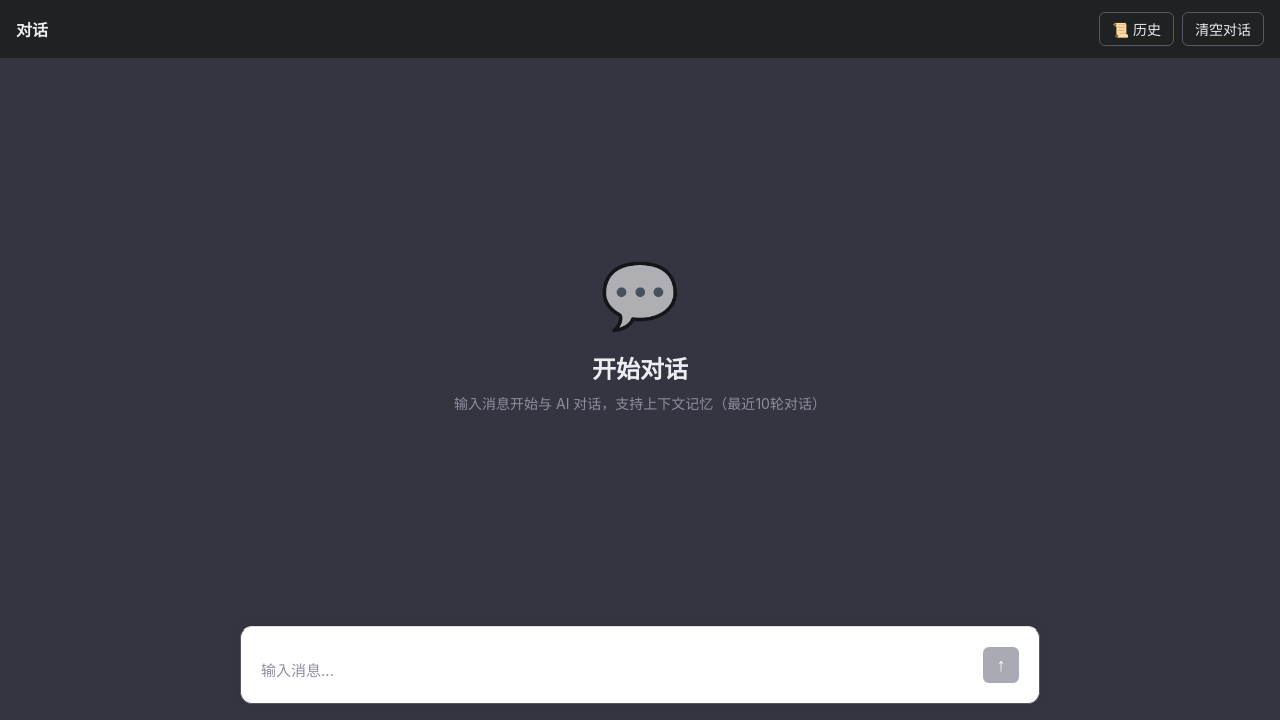
ChatInterface › API 失败时显示错误提示
Type "你好" into the text box at (616, 672), box [261,660,971,683]
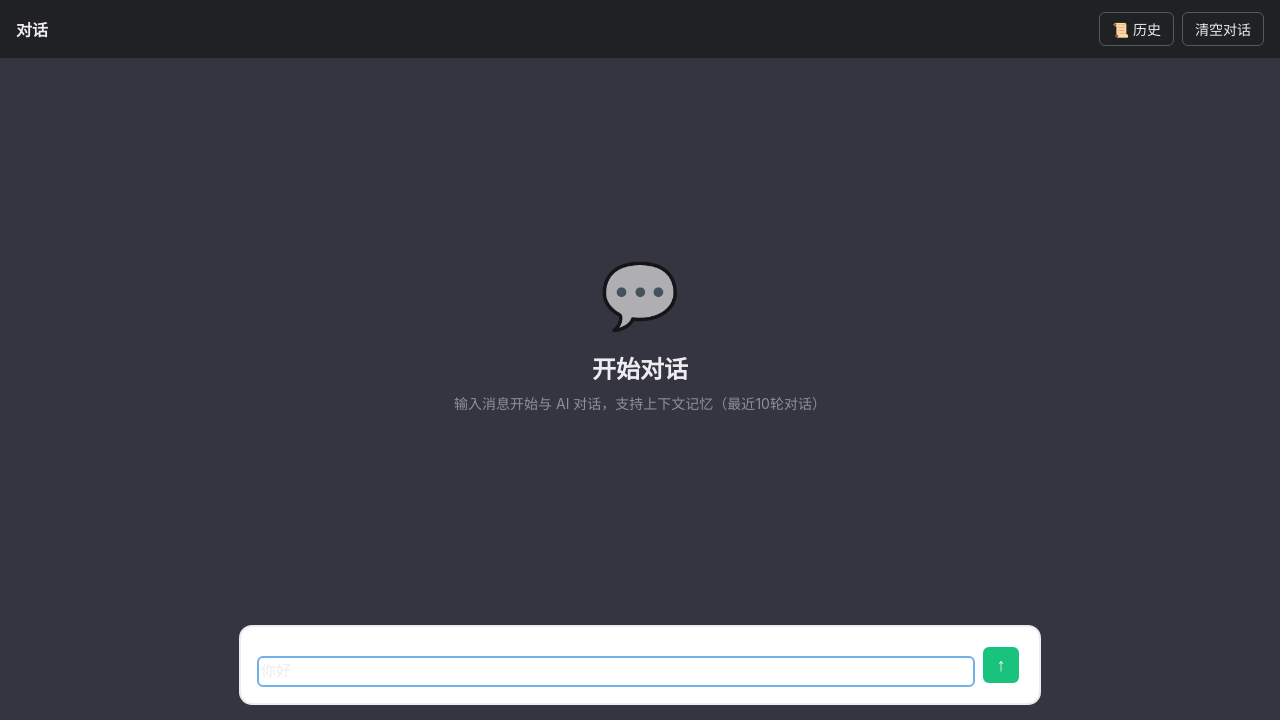
Click the button named "发送消息" at (1001, 665), box [983,647,1019,683]
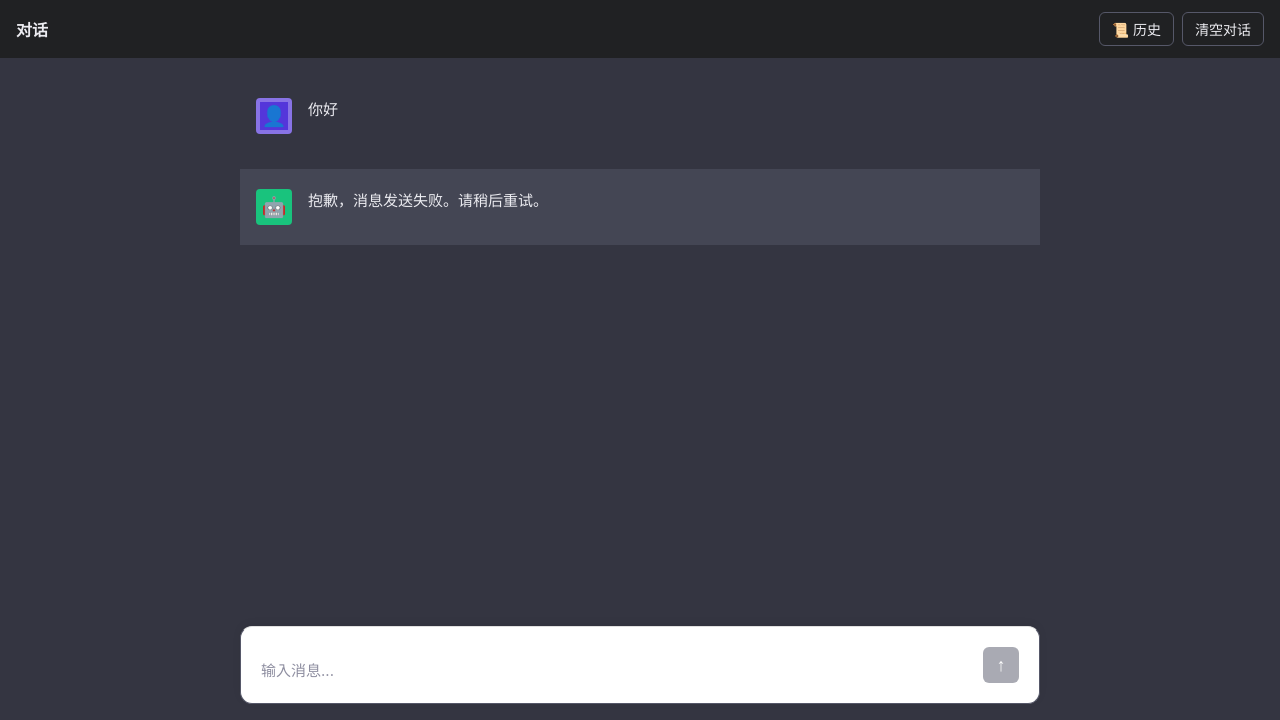
Now the text "抱歉，消息发送失败。请稍后重试。" is shown, box [308,191,548,210]
